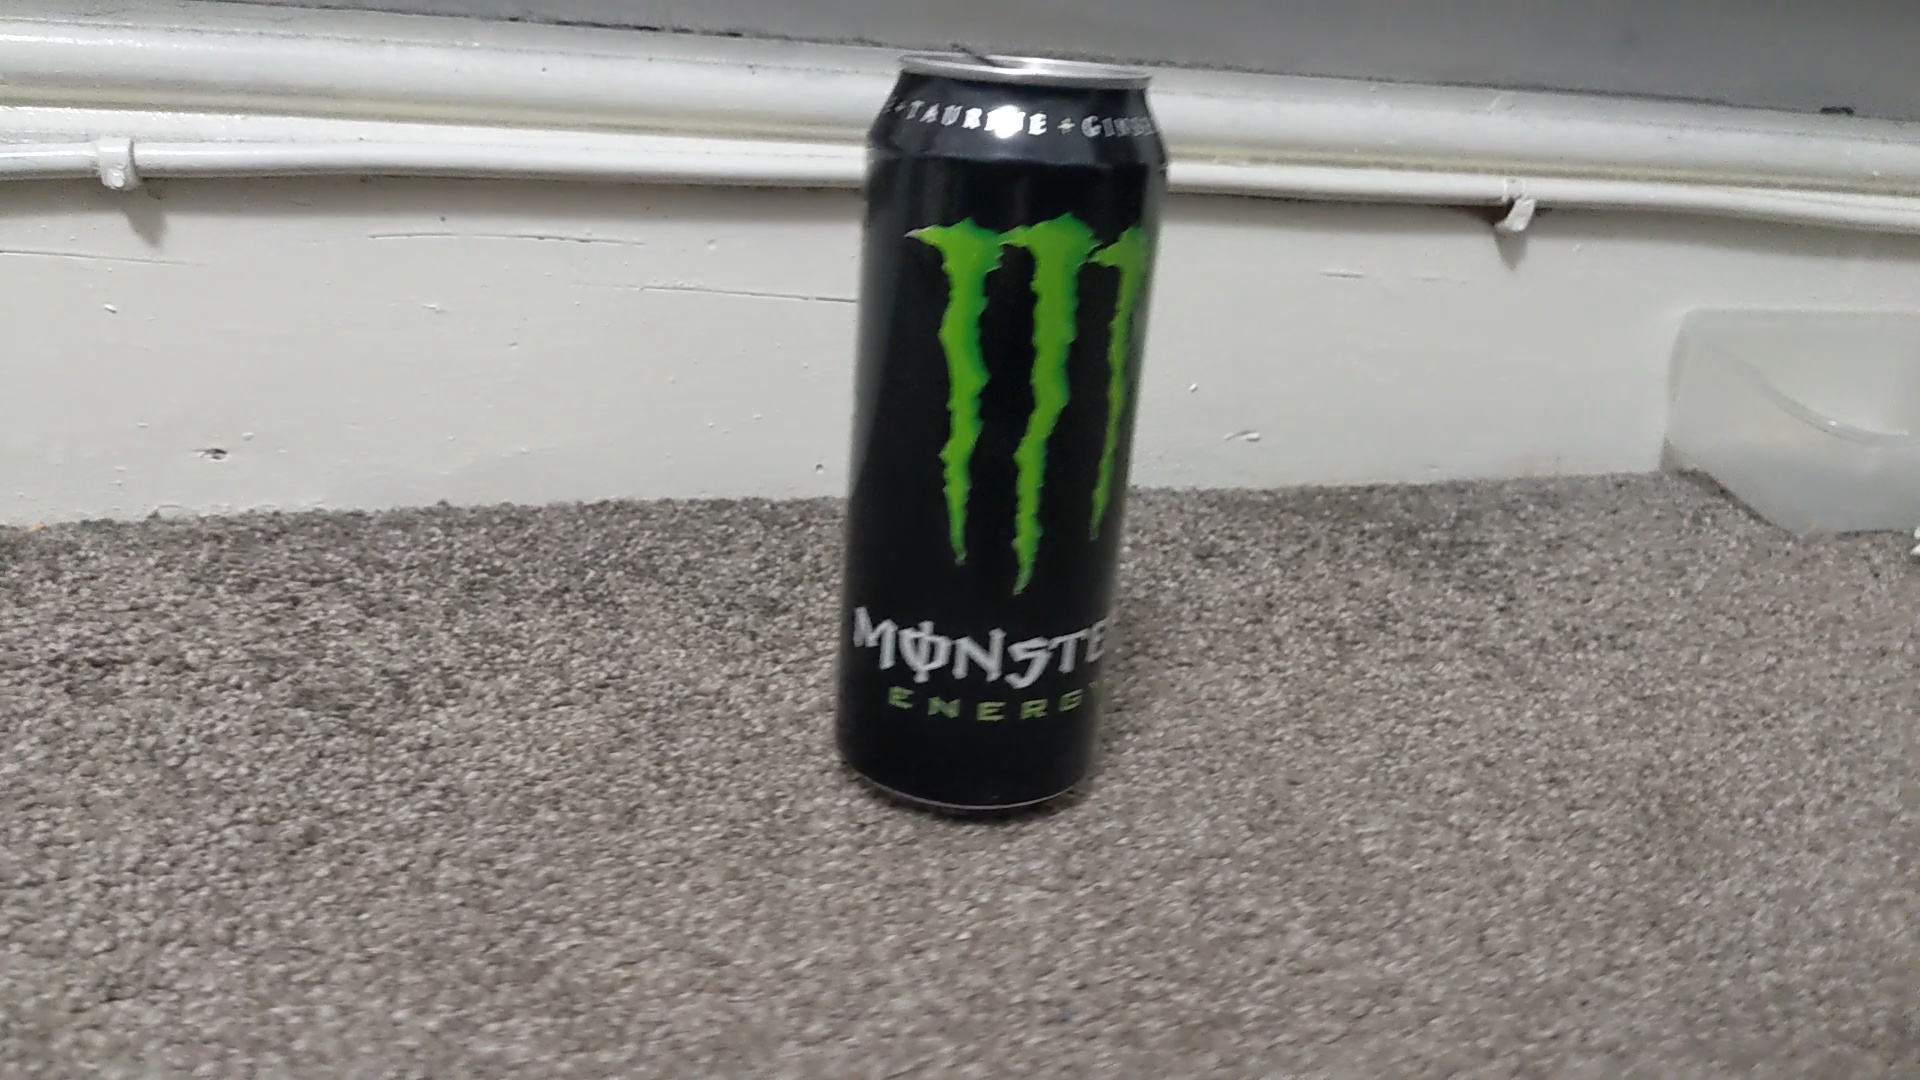monster-original: (831, 57, 1171, 814)
